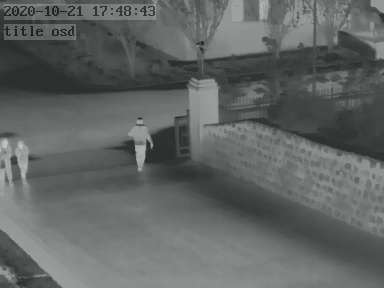person: (129, 115, 151, 172), (15, 137, 31, 184), (1, 137, 13, 184)
